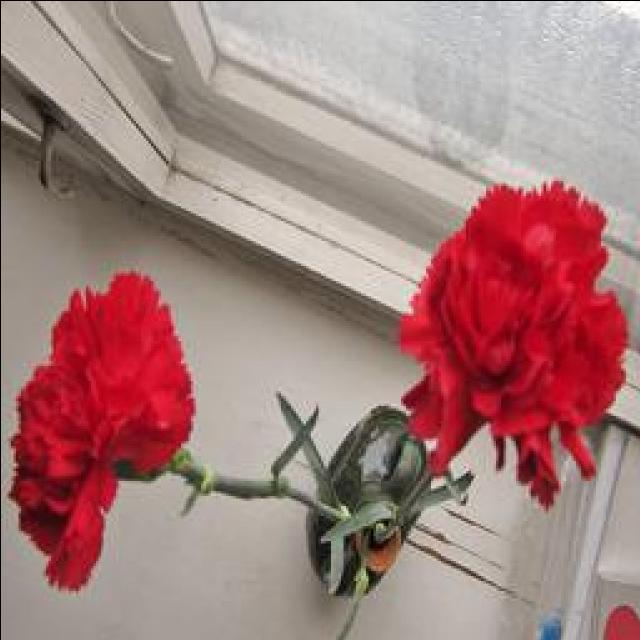carnation: (403, 162, 628, 493), (0, 252, 183, 599)
